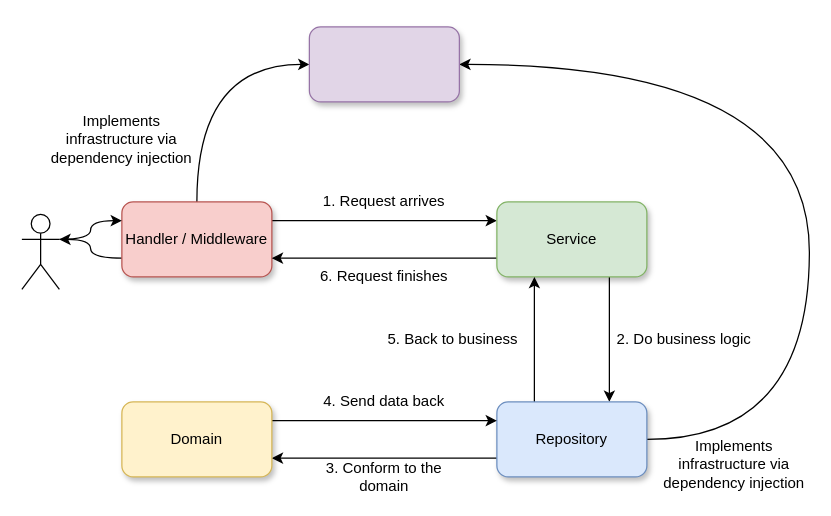
Some shapes in this 831 by 516 pixel diagram are drawn without their labels. Each missing label, with the centre of its shape:
Infrastructures (MariaDB, Auth Service, Fiber): the point at 385,66
User: the point at 40,251
